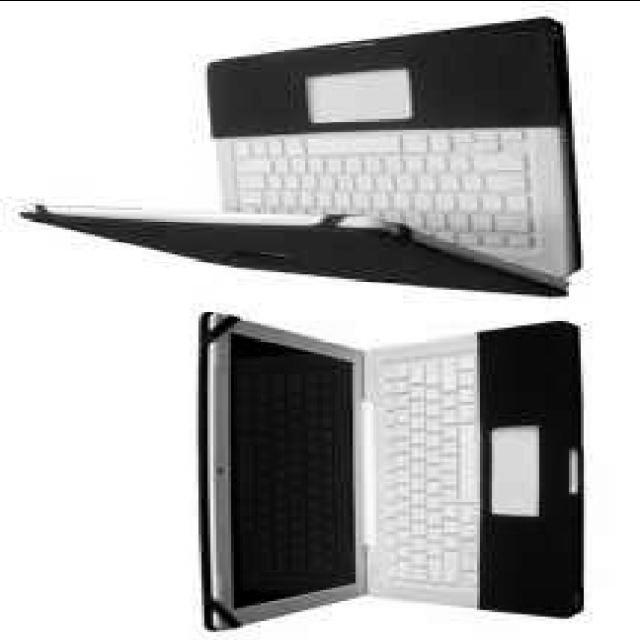-keyboard-: (26, 32, 578, 298), (204, 312, 610, 632)
